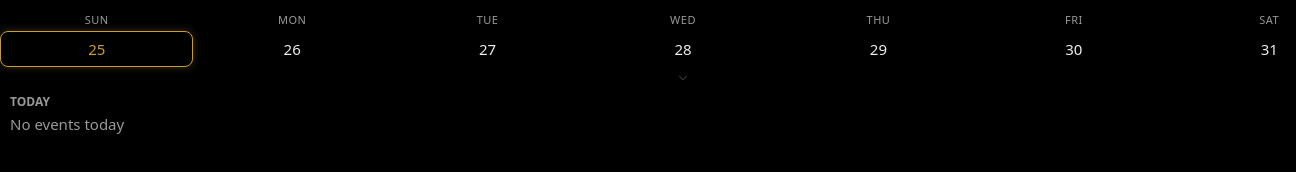
tapping a day lists its events › re-reads the day when its copy is old, so a voice-added local event shows
Click the element with test id "calendar-day-2026-10-26": x=292, y=49 [284,39,301,59]
Wait 31000 ms
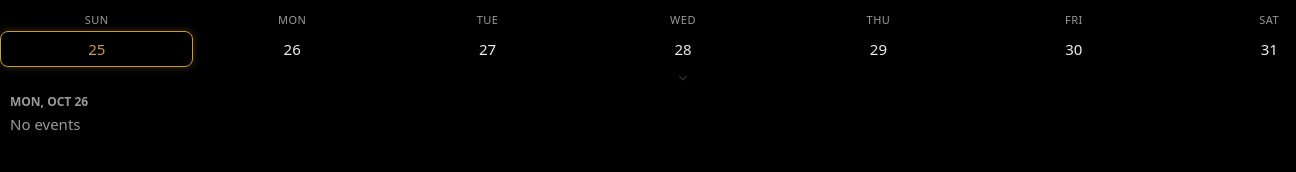
expect the element with test id "calendar-compact-events" shows "No events": met, box [10,114,80,134]
Click the element with test id "calendar-day-2026-10-26": x=292, y=49 [284,39,301,59]
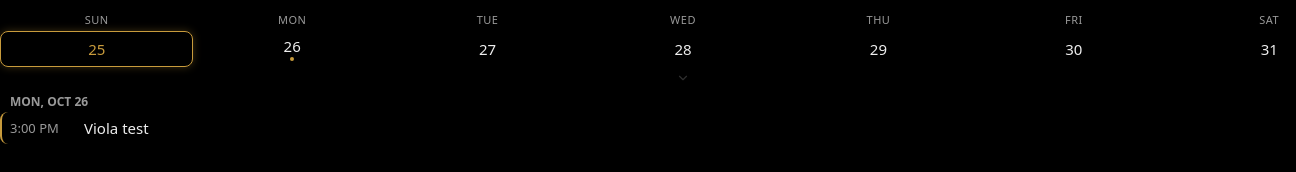
expect the element with test id "calendar-compact-events" shows "Viola test": met, box [84,118,149,138]
